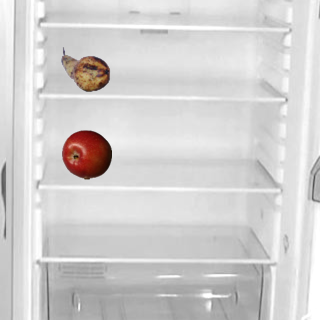Apple Braeburn: (61, 129, 111, 179)
Pear Abate: (60, 44, 110, 94)
